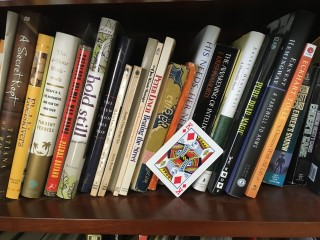KingOfDiamonds: (146, 120, 224, 197)
